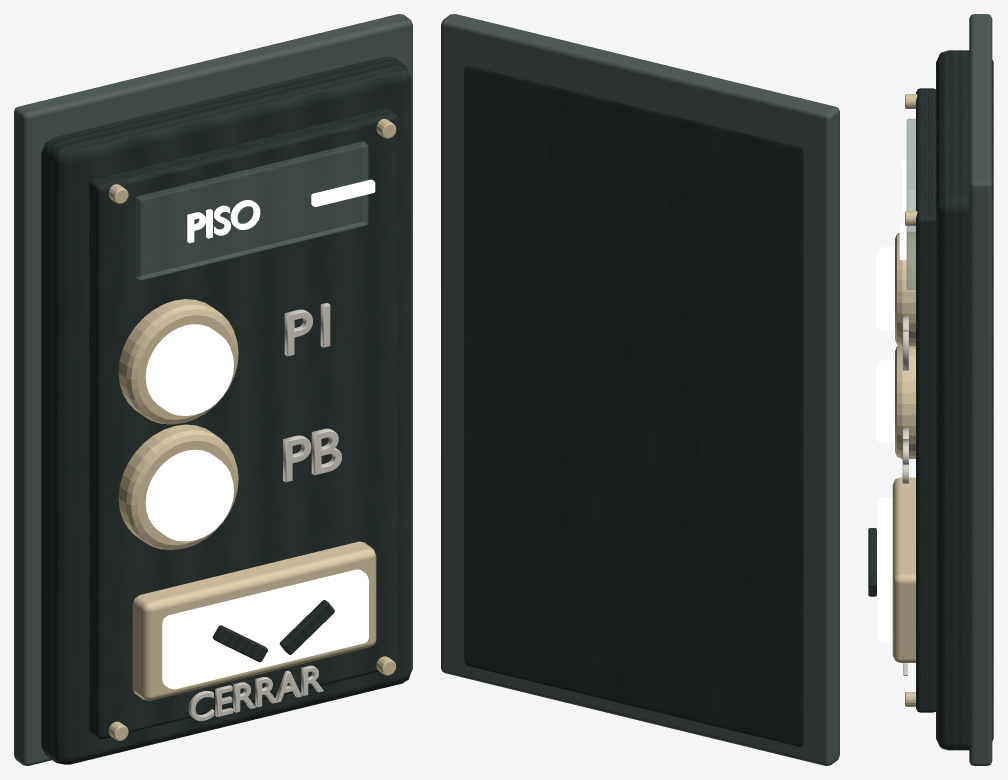
Rendered from elevator-control-panel.glb.
3 renders of one model, left to right at view 1: azimuth 30°, elevation 25°; view 2: azimuth 150°, elevation 25°; view 3: azimuth 270°, elevation 25°, orthographic. The views are drawn at different scales.
Parts seen in each view (by area): view 1: ControlPanel_Face, ControlPanel_Housing, ControlPanel_WallGasket, ControlPanel_Display, Elevator_Control_Close_Button, ControlPanel_DoorCloseBezel, Elevator_Control_P1_Button, Elevator_Control_PB_Button, Elevator_Control_P1_Button_Outer, Elevator_Control_PB_Button_Outer, ControlPanel_CloseLabel, Elevator_Control_PB_Button_Label (+5 smaller); view 2: ControlPanel_Housing, ControlPanel_WallGasket; view 3: ControlPanel_Housing, ControlPanel_WallGasket, ControlPanel_Face, ControlPanel_DoorCloseBezel, Elevator_Control_Close_Button, Elevator_Control_PB_Button_Outer, Elevator_Control_P1_Button_Outer, Elevator_Control_PB_Button, Elevator_Control_P1_Button, ControlPanel_Display, ControlPanel_CloseArrowLeft, Elevator_Control_PB_Button_Label (+3 smaller).
Boxes of the visible parts, bbox=[...] form: ControlPanel_Face: bbox=[89, 108, 397, 738]; ControlPanel_Housing: bbox=[41, 56, 411, 764]; ControlPanel_WallGasket: bbox=[14, 14, 412, 765]; ControlPanel_Display: bbox=[136, 141, 368, 280]; Elevator_Control_Close_Button: bbox=[162, 569, 368, 689]; ControlPanel_DoorCloseBezel: bbox=[132, 541, 376, 700]; Elevator_Control_P1_Button: bbox=[145, 324, 233, 415]; Elevator_Control_PB_Button: bbox=[145, 449, 233, 541]; Elevator_Control_P1_Button_Outer: bbox=[118, 299, 238, 424]; Elevator_Control_PB_Button_Outer: bbox=[118, 424, 238, 549]; ControlPanel_CloseLabel: bbox=[188, 665, 323, 721]; Elevator_Control_PB_Button_Label: bbox=[283, 428, 341, 482]; ControlPanel_Housing: bbox=[464, 66, 803, 746]; ControlPanel_WallGasket: bbox=[441, 14, 839, 765]; ControlPanel_Housing: bbox=[936, 50, 993, 750]; ControlPanel_WallGasket: bbox=[969, 14, 992, 765]; ControlPanel_Face: bbox=[916, 88, 935, 712]; ControlPanel_DoorCloseBezel: bbox=[892, 477, 915, 662]; Elevator_Control_Close_Button: bbox=[877, 497, 892, 642]; Elevator_Control_PB_Button_Outer: bbox=[895, 345, 915, 458]; Elevator_Control_P1_Button_Outer: bbox=[895, 232, 915, 346]; Elevator_Control_PB_Button: bbox=[876, 359, 894, 443]; Elevator_Control_P1_Button: bbox=[876, 247, 894, 330]; ControlPanel_Display: bbox=[906, 118, 915, 289]; ControlPanel_CloseArrowLeft: bbox=[868, 528, 876, 574]; Elevator_Control_PB_Button_Label: bbox=[902, 426, 908, 483].
Bounding box in the file's own units: 1.4 × 2.24 × 0.435.
8 materials, 3 textured.
